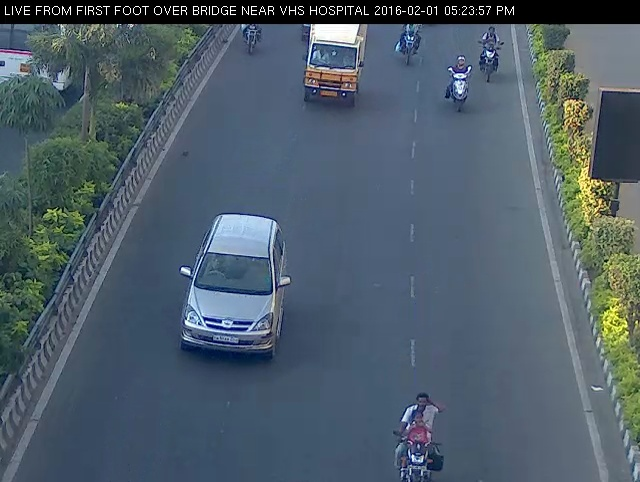Car: (172, 208, 295, 365), (300, 15, 372, 115), (294, 9, 341, 55), (295, 9, 343, 52)
Person: (381, 377, 459, 482), (440, 43, 474, 124), (476, 14, 510, 91), (387, 17, 430, 70), (224, 14, 267, 60)
